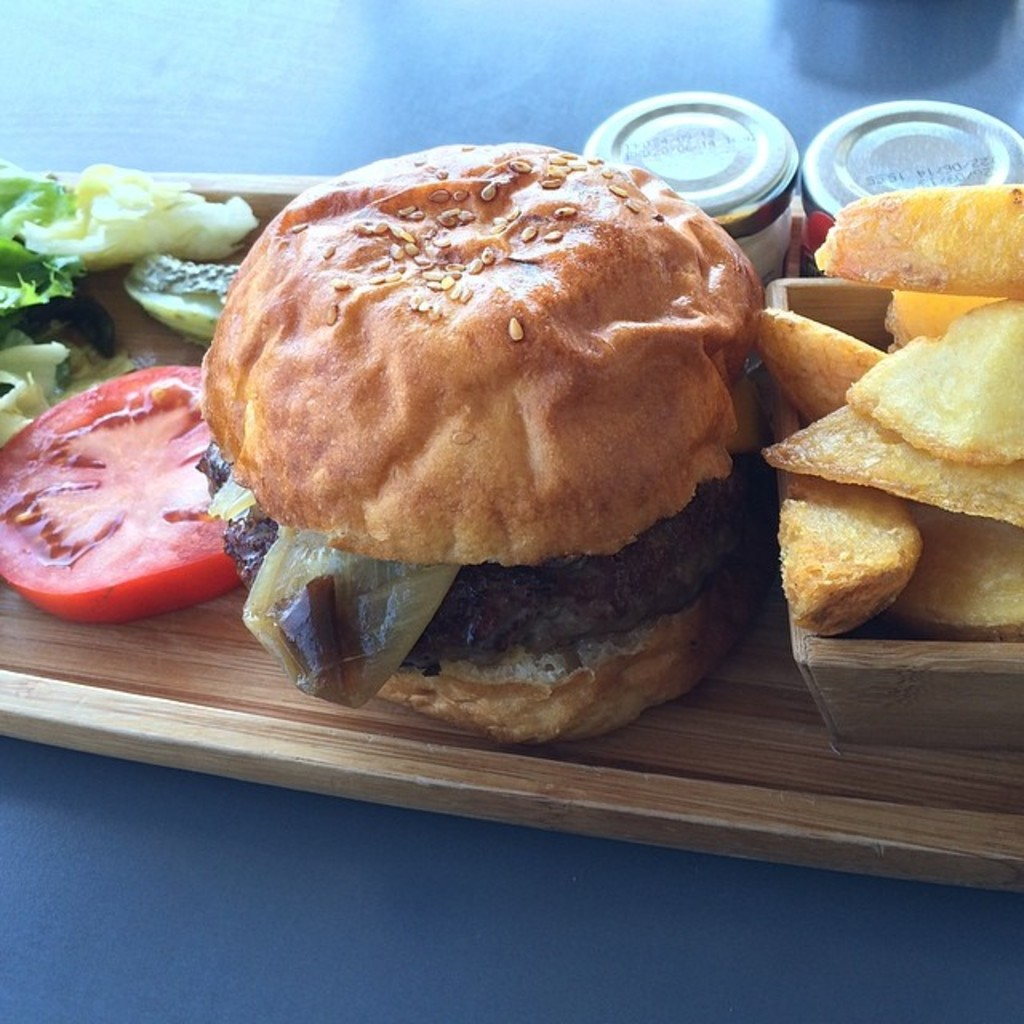Hamburger: (195, 139, 768, 743)
